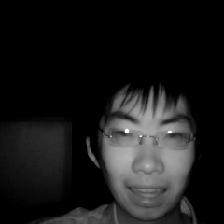happy: (80, 62, 212, 222)
